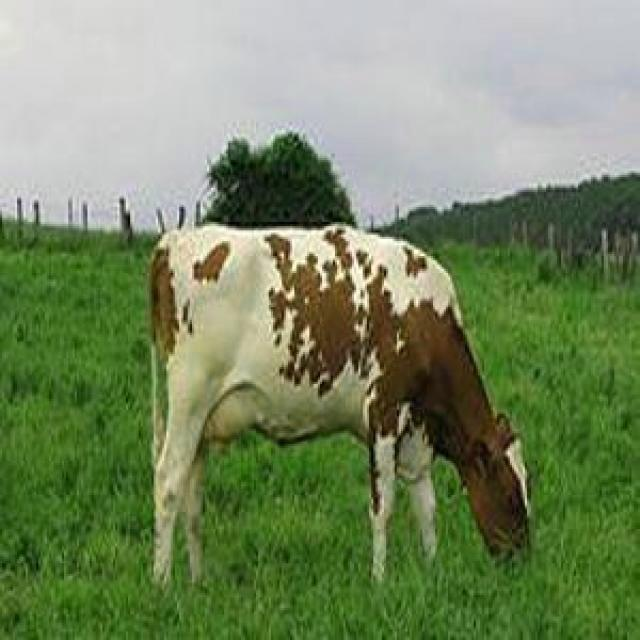cow: (150, 225, 529, 582)
